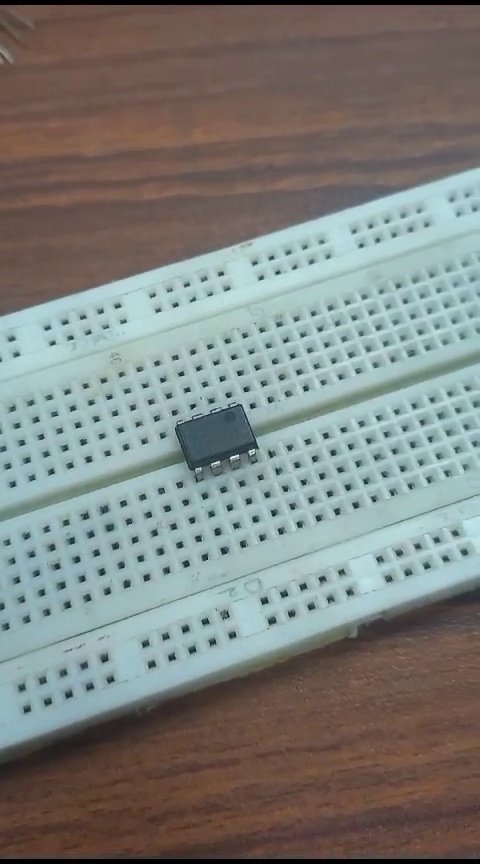IC: (168, 399, 258, 476)
